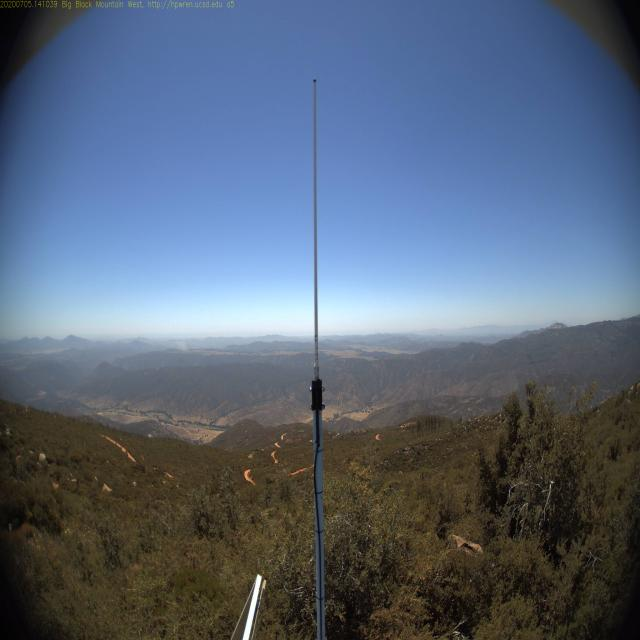smoke: (170, 328, 192, 358)
